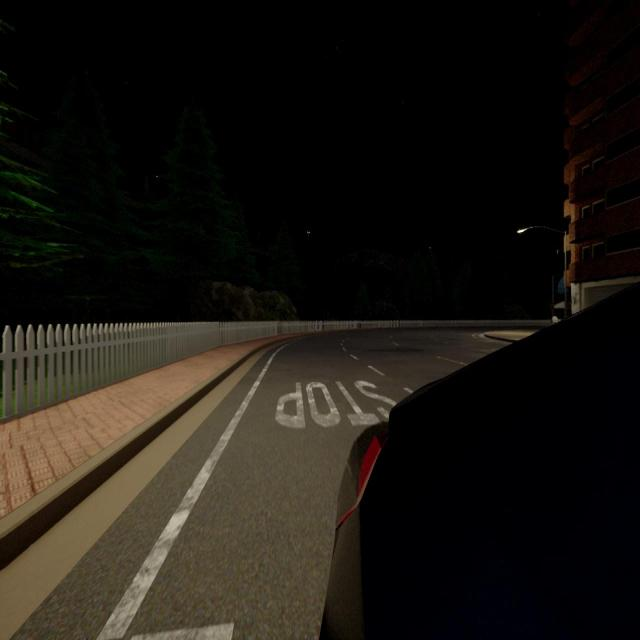Vehicle: (322, 284, 640, 640)
